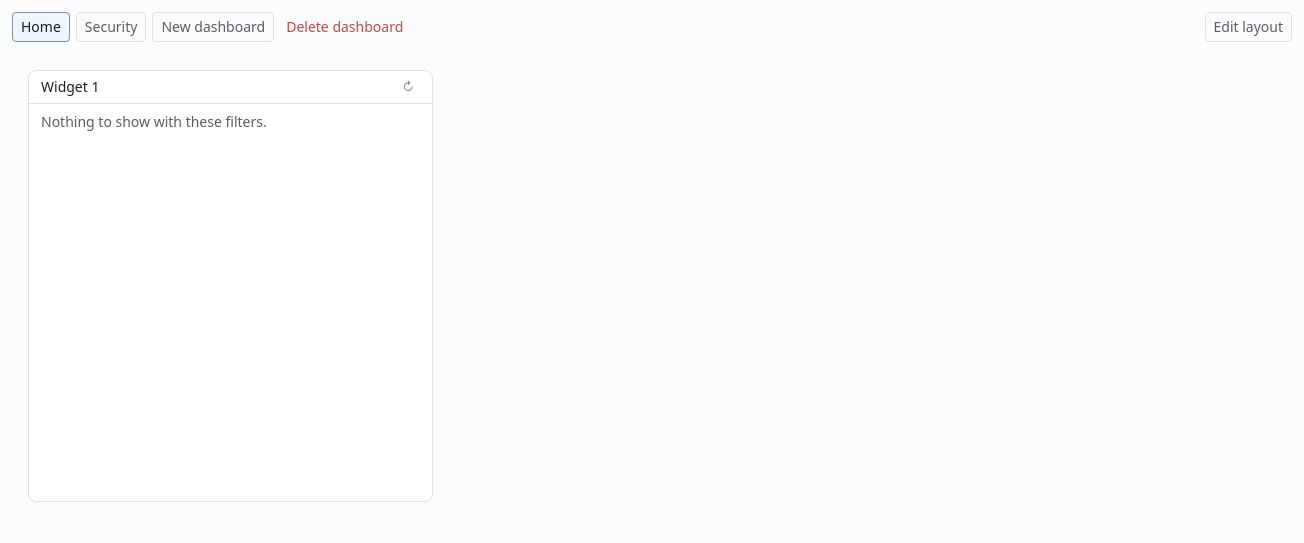
it: editing a dashboard › hides the widget actions until edit mode is on
Check: the heading "Widget 1" is shown, box [41,77,100,97]
Check: the button named "Refresh this widget" is shown, box [396,77,420,97]
Click the button "Edit layout" at (1248, 27), box [1204,12,1292,42]
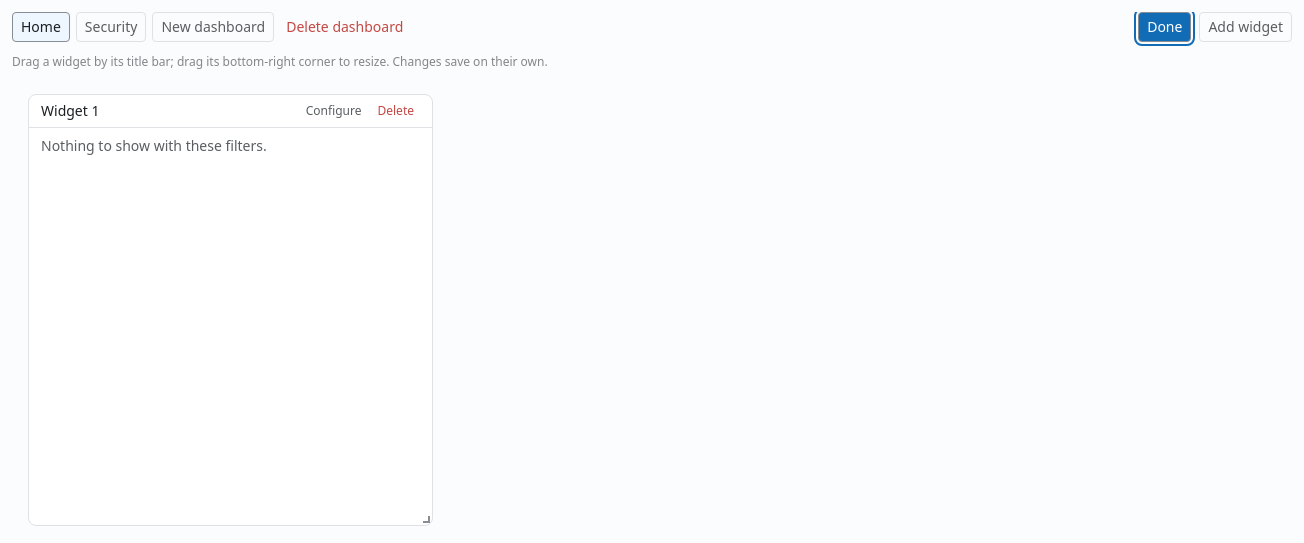
Check: the button "Configure" is shown, box [300,101,368,121]
Check: the button "Delete" is shown, box [372,101,420,121]
